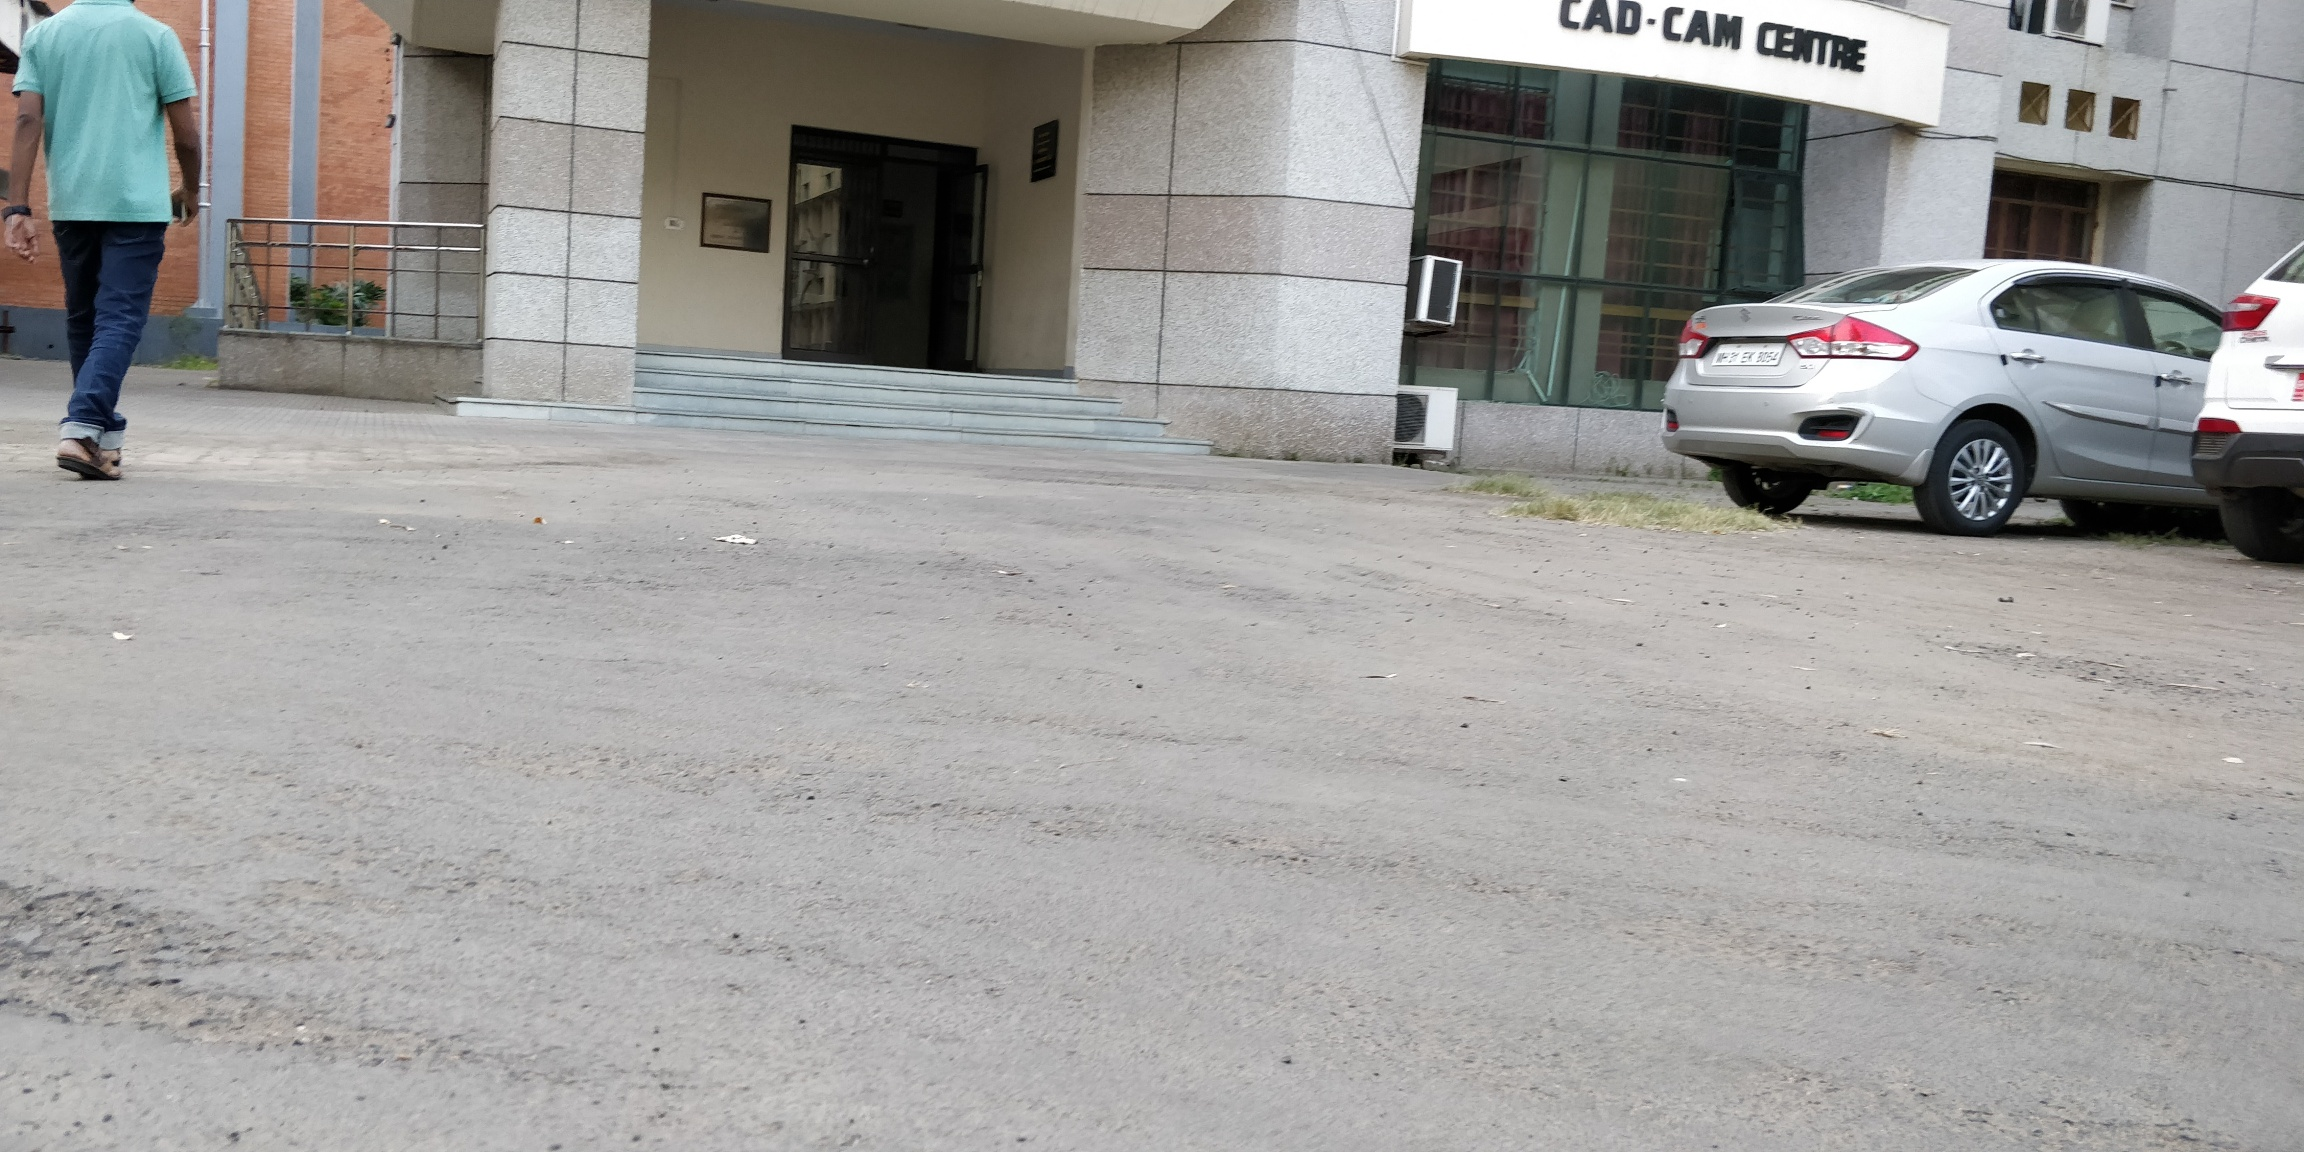stairs_up: (635, 342, 1174, 447)
